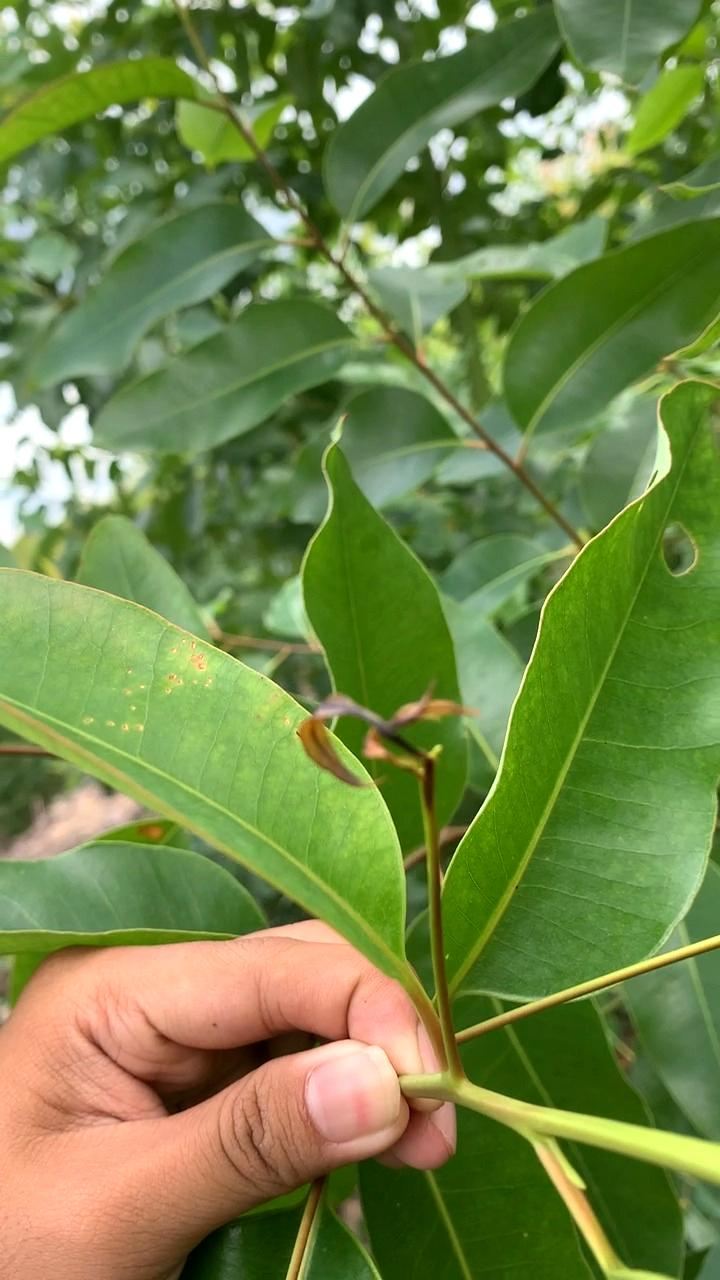Helopeltis-Withered Sprout: (288, 673, 477, 805)
